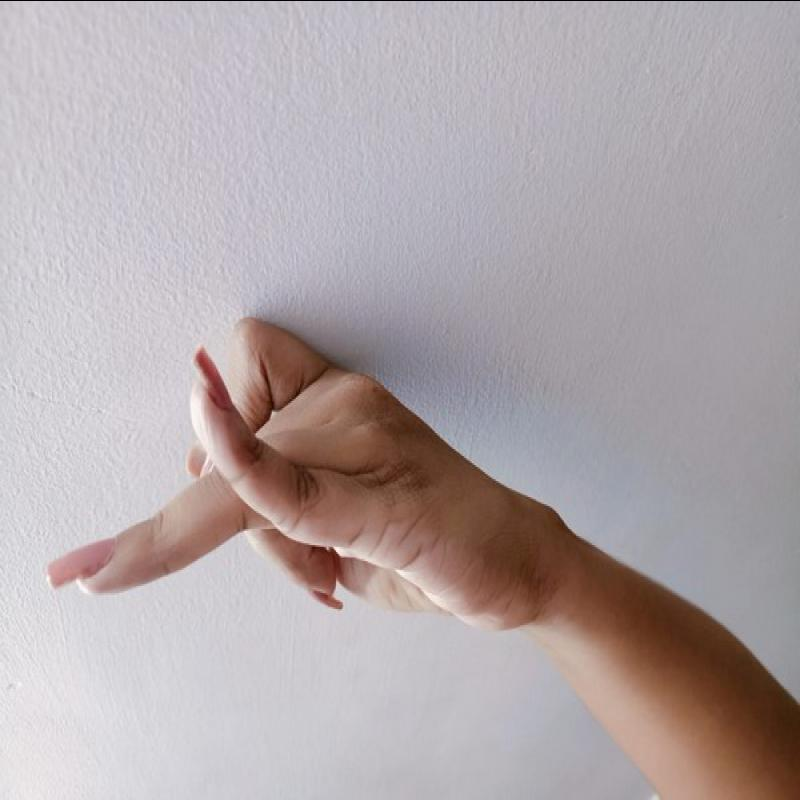Katakam: (24, 307, 546, 638)
